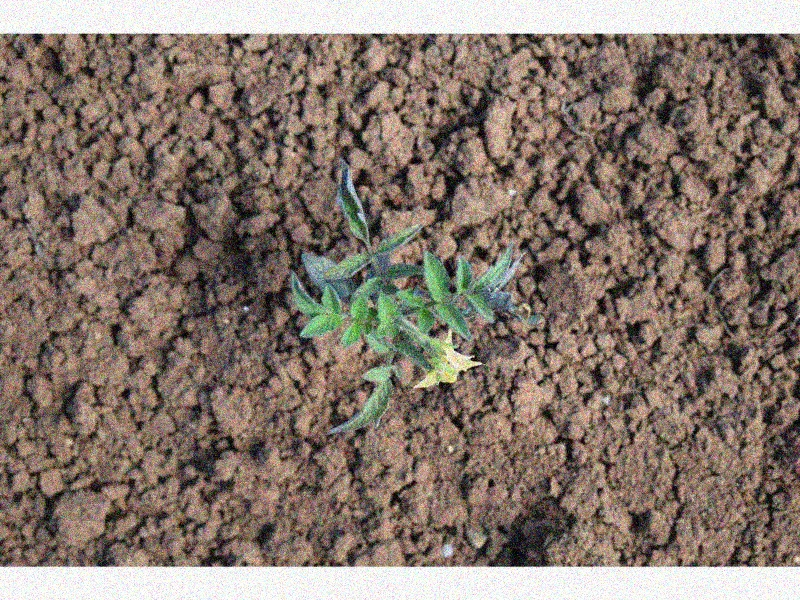tomato: (286, 157, 526, 435)
